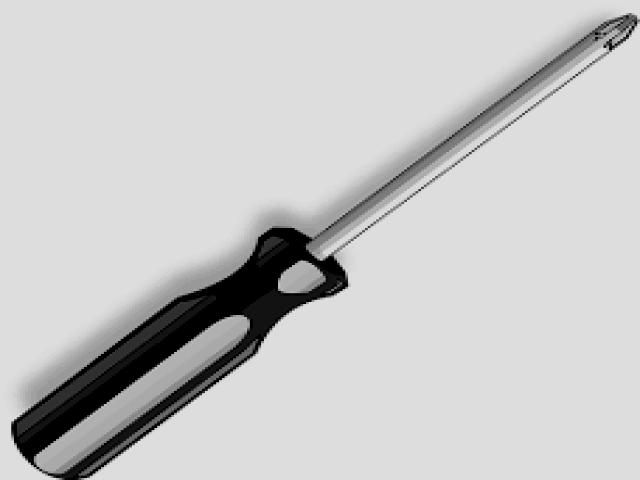Screwdriver: (14, 15, 639, 478)
